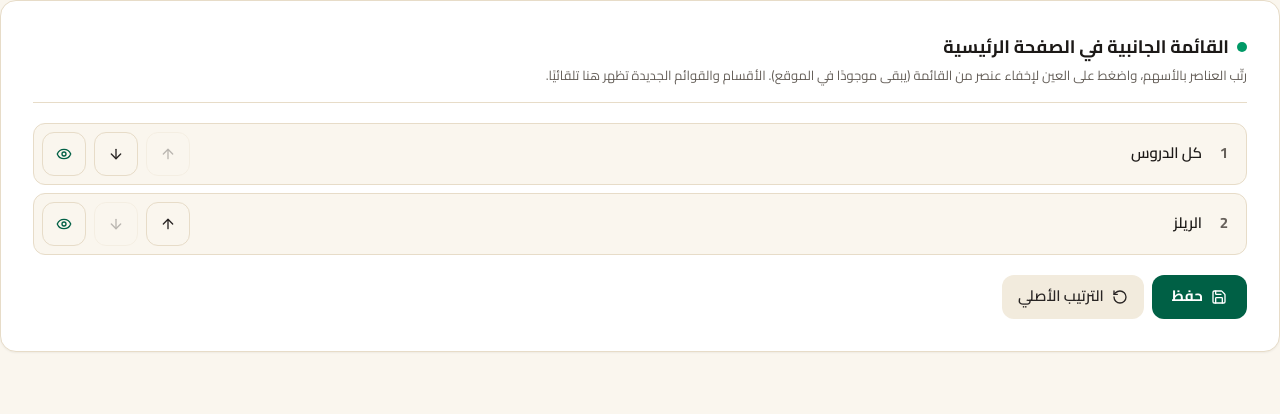
Test case: SideMenuSettings › shows the message when saving fails
Click the button "حفظ": (1199, 297) [1152,275,1247,319]
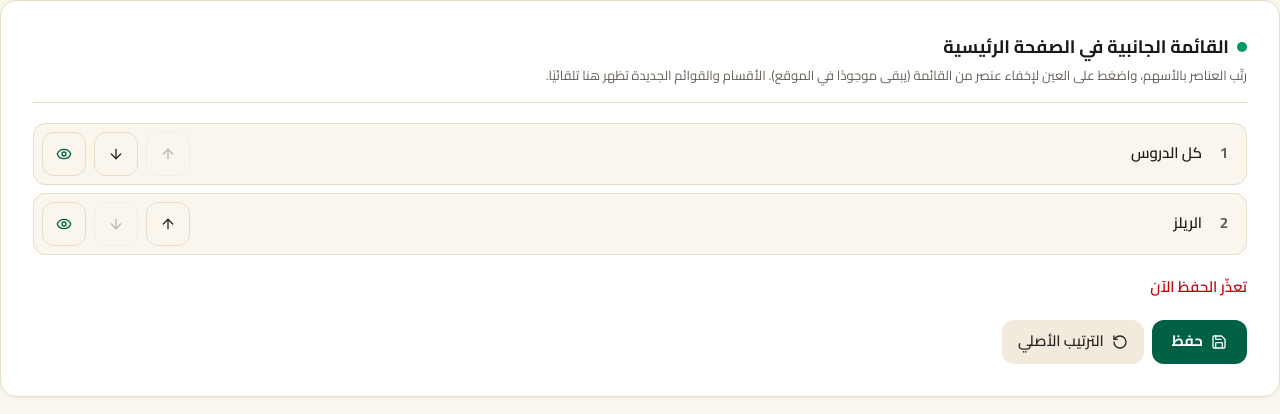
Result: the message reads "تعذّر الحفظ الآن" at [1150,272,1247,301]
